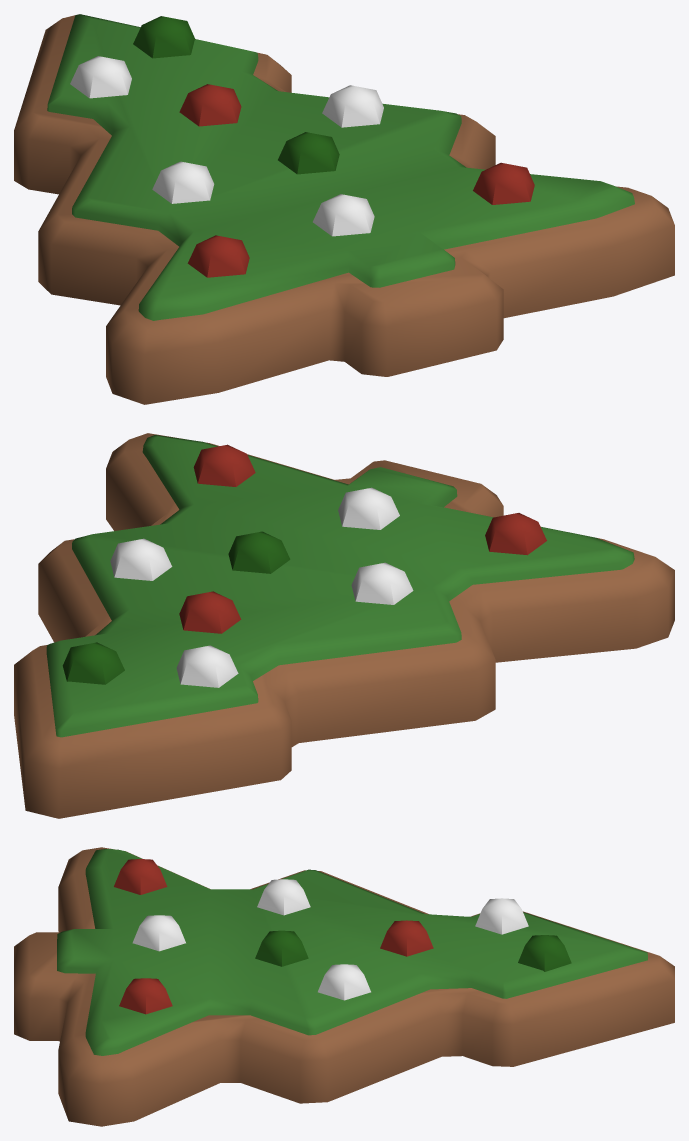
Rendered from CookieChristmasTree_01.fbx.
3 views of the same model, one above another, from view 1: azimuth 30°, elevation 25°; view 2: azimuth 150°, elevation 25°; view 3: azimuth 270°, elevation 25° (orthographic). The views are drawn at different scales.
Visible parts, largest first — view 1: CookieChristmasTree_01; view 2: CookieChristmasTree_01; view 3: CookieChristmasTree_01.
Part boxes in pixels (left/top/right/bottom): CookieChristmasTree_01: left=14, top=14, right=674, bottom=404; CookieChristmasTree_01: left=14, top=433, right=674, bottom=818; CookieChristmasTree_01: left=14, top=847, right=674, bottom=1126.
Size of the model in its own units: 0.1239 by 0.0232 by 0.1506.
